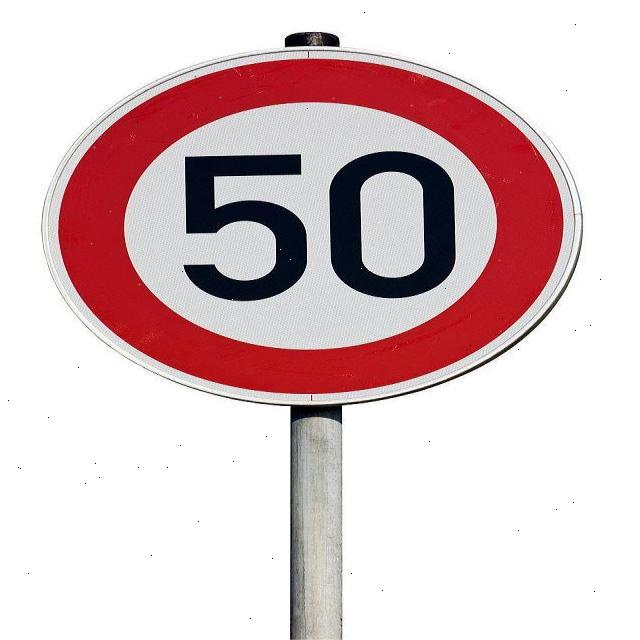speed limit 50: (41, 49, 584, 406)
